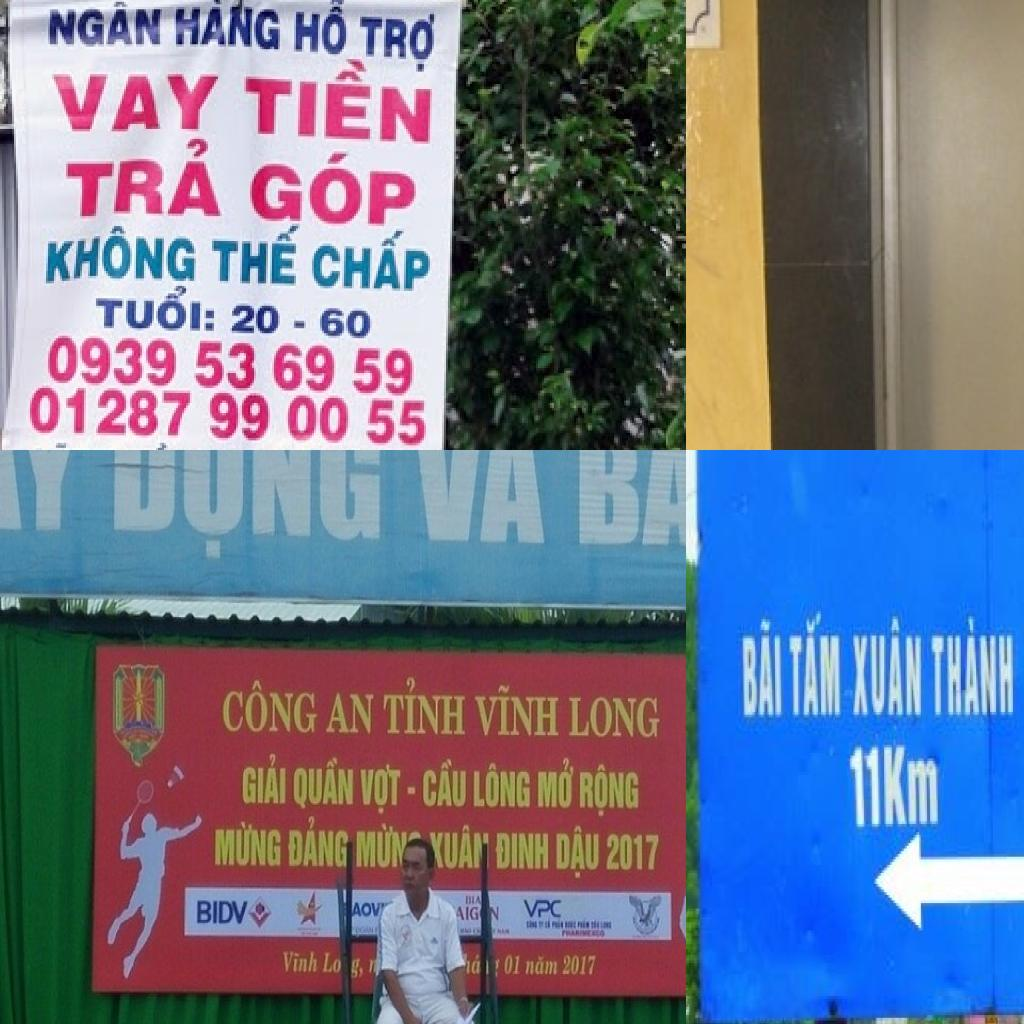text: (98, 450, 385, 567), (44, 328, 418, 401), (26, 385, 430, 450), (242, 50, 436, 152), (398, 450, 555, 557), (244, 144, 420, 233), (64, 132, 226, 224), (565, 450, 686, 561), (46, 69, 226, 139), (42, 218, 200, 288), (928, 611, 1018, 723), (0, 450, 98, 546), (846, 742, 944, 838), (308, 228, 436, 298), (848, 614, 926, 726), (92, 281, 218, 338), (786, 608, 846, 726), (210, 221, 304, 291), (218, 677, 321, 739), (172, 0, 286, 56), (46, 0, 166, 51), (358, 9, 444, 79), (380, 671, 469, 738), (738, 614, 786, 728), (472, 680, 562, 739), (564, 692, 662, 742), (289, 752, 358, 813), (211, 816, 282, 870), (576, 762, 642, 818), (284, 814, 352, 868), (292, 0, 350, 61), (228, 301, 310, 343), (471, 759, 532, 812), (426, 823, 492, 870), (237, 752, 290, 809), (353, 818, 410, 870), (552, 823, 602, 880), (322, 688, 376, 739), (358, 761, 404, 819), (604, 830, 663, 874), (421, 756, 468, 810), (494, 829, 550, 873), (535, 752, 576, 812), (318, 303, 378, 343), (193, 896, 252, 928), (278, 943, 321, 978), (521, 894, 565, 922), (521, 953, 559, 977), (32, 440, 116, 450), (350, 898, 384, 922), (122, 440, 196, 450), (321, 947, 344, 975), (453, 906, 482, 926), (348, 953, 366, 984), (501, 951, 522, 977), (470, 948, 483, 977), (463, 892, 485, 907)
